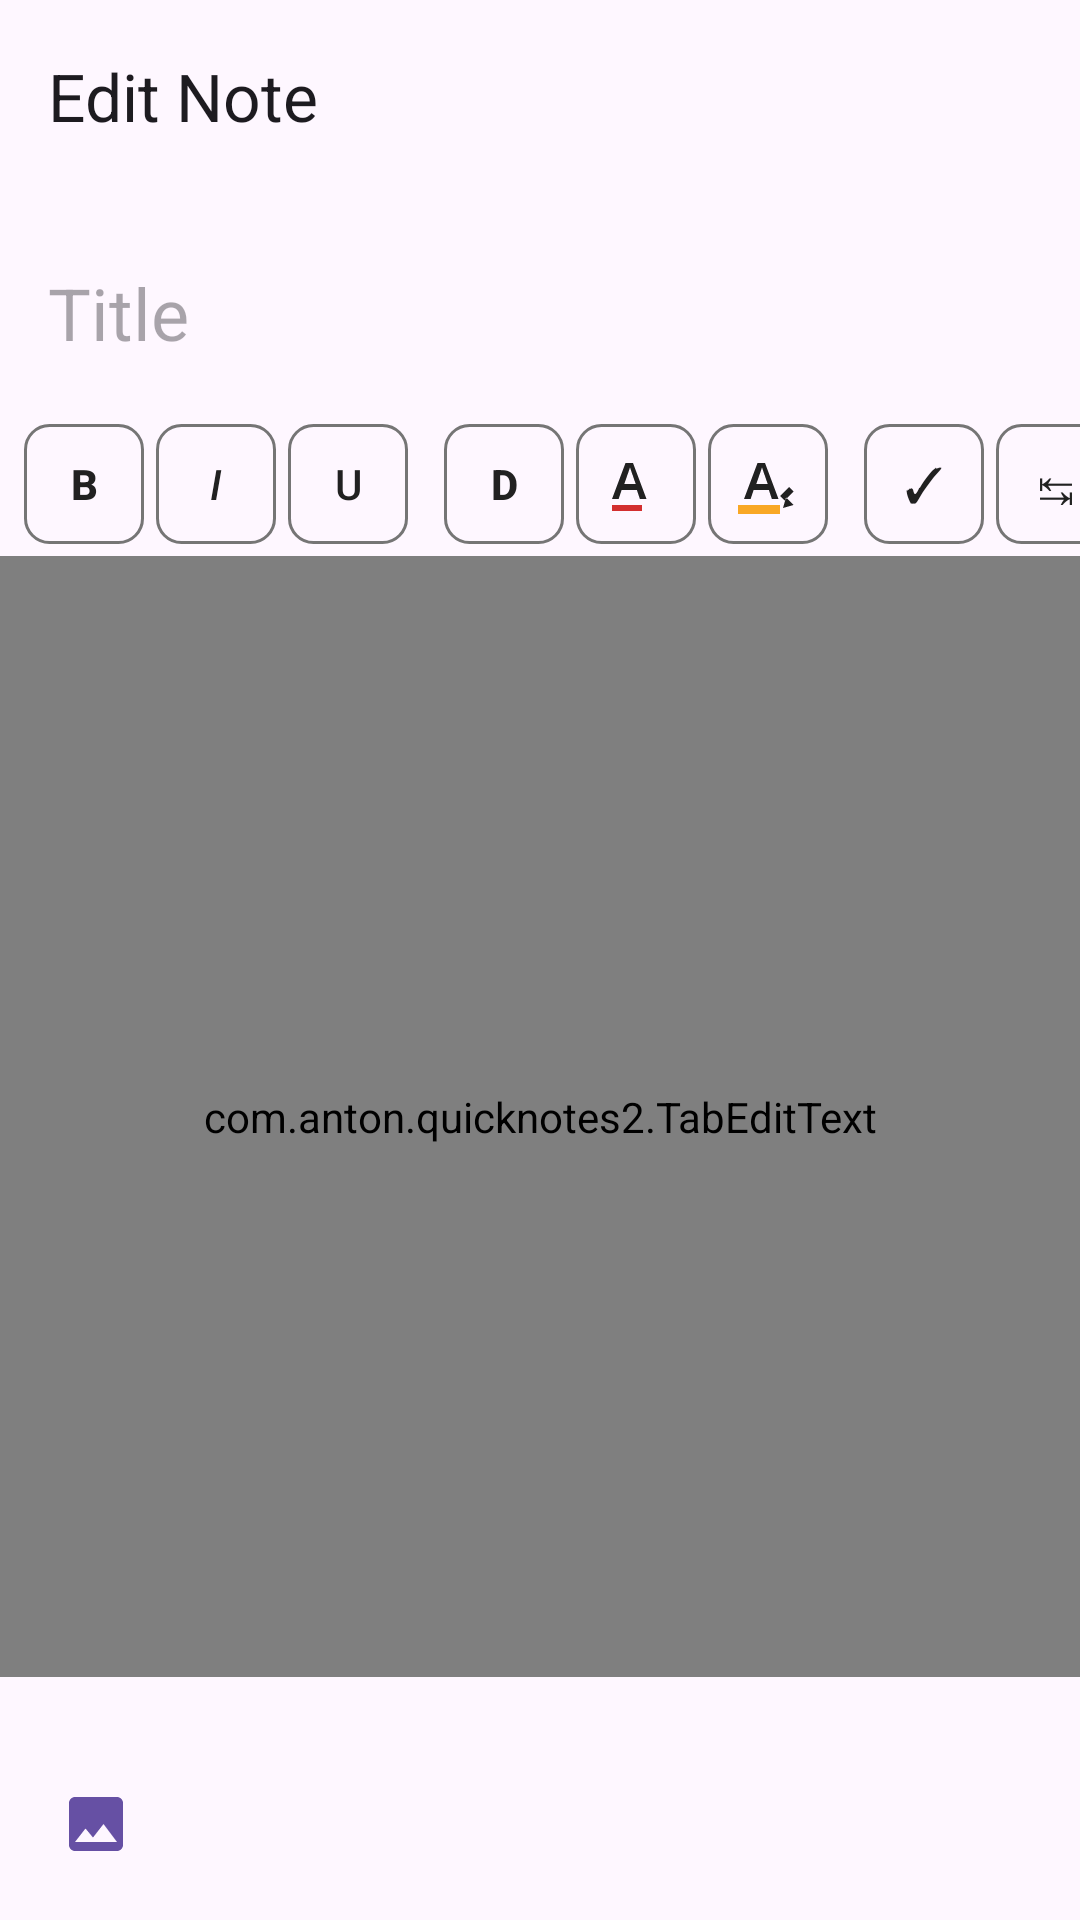

Screen size 1080px×1920px. Icon name, then its center in pixels as [x,y]:
Add photo: [96,1824]
Text color: [636,484]
Text highlight: [768,484]
